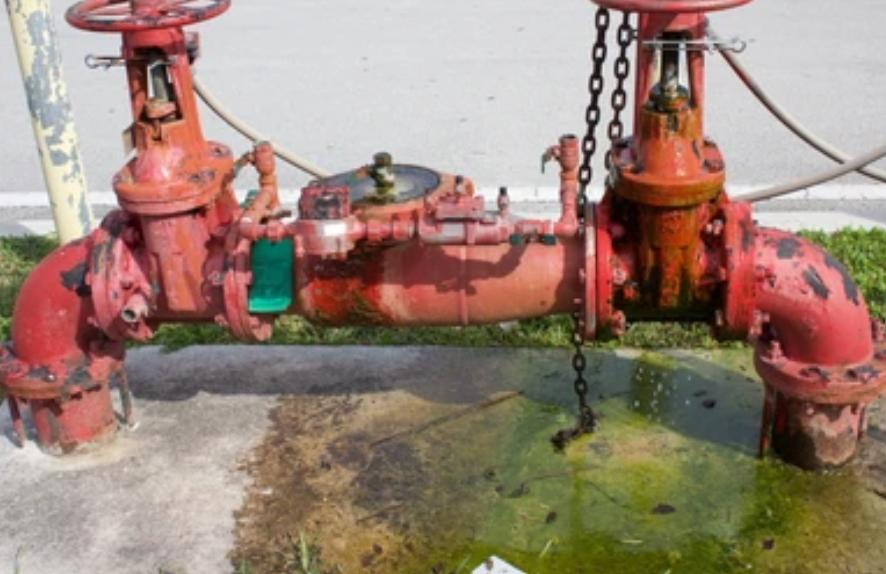water accumulation: (228, 344, 886, 574)
